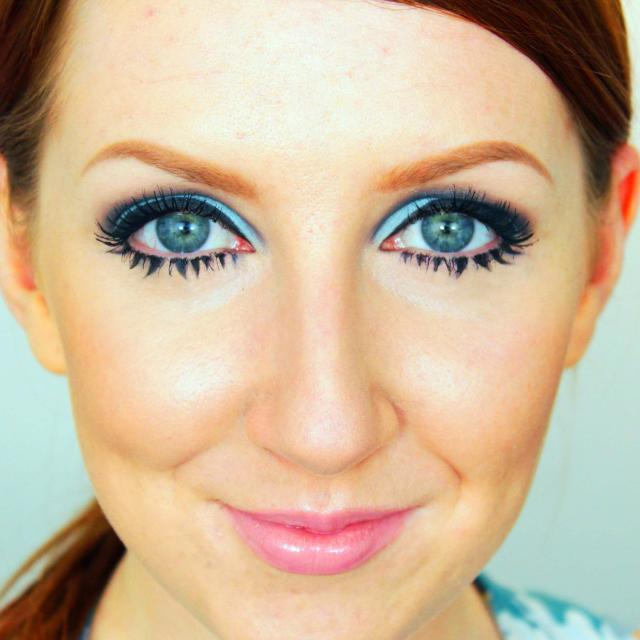Normal: (36, 6, 594, 638)
